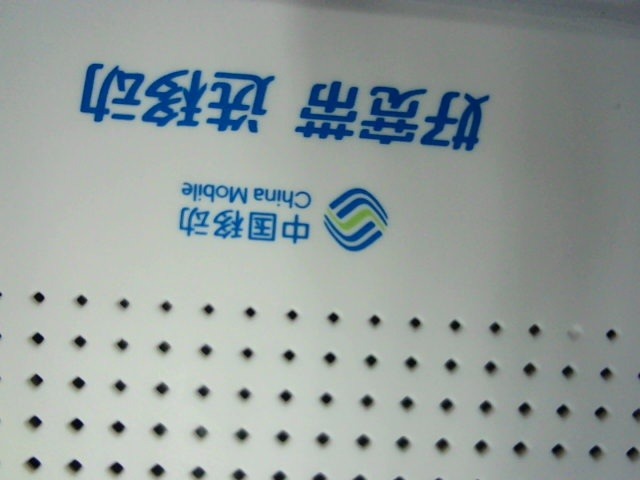AA_ChinaMoble: (66, 46, 496, 255)
